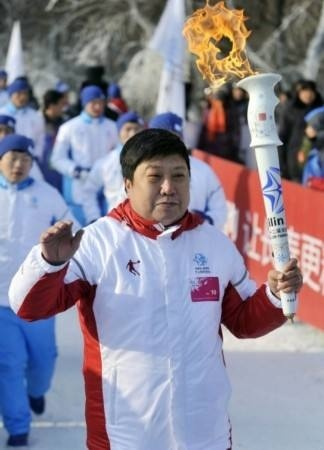fire: (182, 0, 256, 81)
